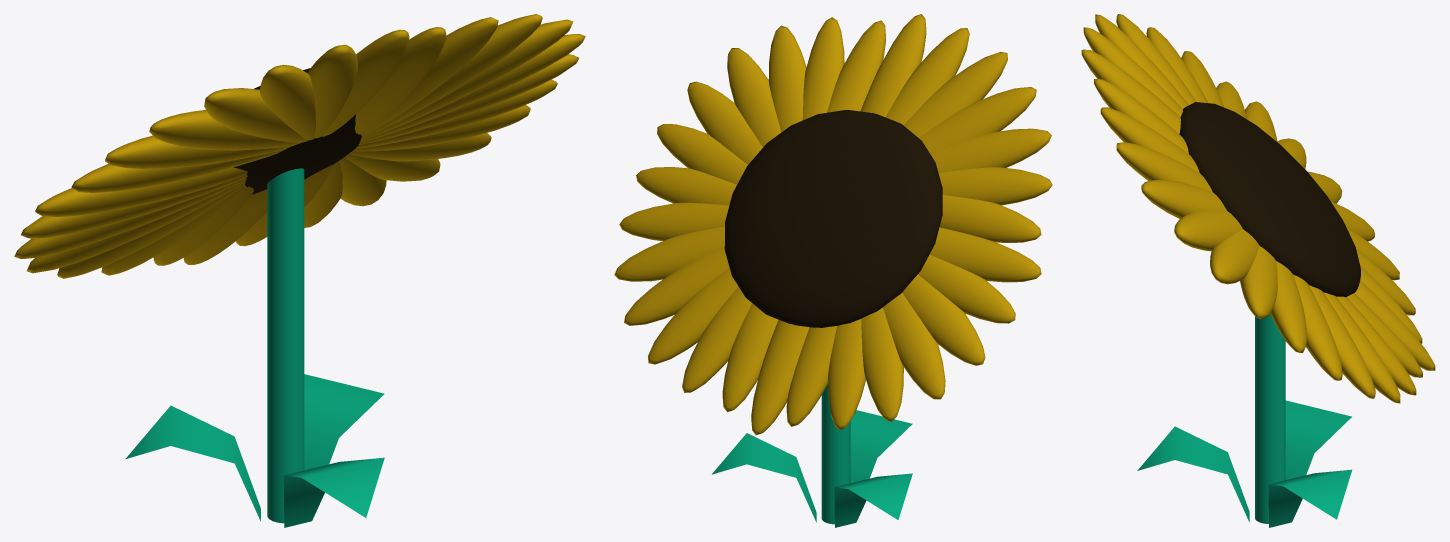
File: flower.glb
3 views of the same model, side by side, from view 1: azimuth 30°, elevation 25°; view 2: azimuth 150°, elevation 25°; view 3: azimuth 270°, elevation 25° (orthographic). The views are drawn at different scales.
Parts seen in each view (by area): view 1: sphere (×29), plant_large, cylinder; view 2: sphere (×29), plant_large, cylinder; view 3: sphere (×29), plant_large, cylinder.
Boxes of the visible parts, x1=… form: sphere (×29): x1=14, y1=14, x2=585, y2=278; plant_large: x1=125, y1=374, x2=384, y2=527; cylinder: x1=267, y1=168, x2=304, y2=523; sphere (×29): x1=614, y1=14, x2=1052, y2=435; plant_large: x1=712, y1=410, x2=912, y2=527; cylinder: x1=821, y1=384, x2=850, y2=524; sphere (×29): x1=1081, y1=14, x2=1435, y2=403; plant_large: x1=1137, y1=400, x2=1351, y2=527; cylinder: x1=1255, y1=314, x2=1285, y2=523.
Size of the model in its own units: 1.62 by 1.68 by 1.15.
